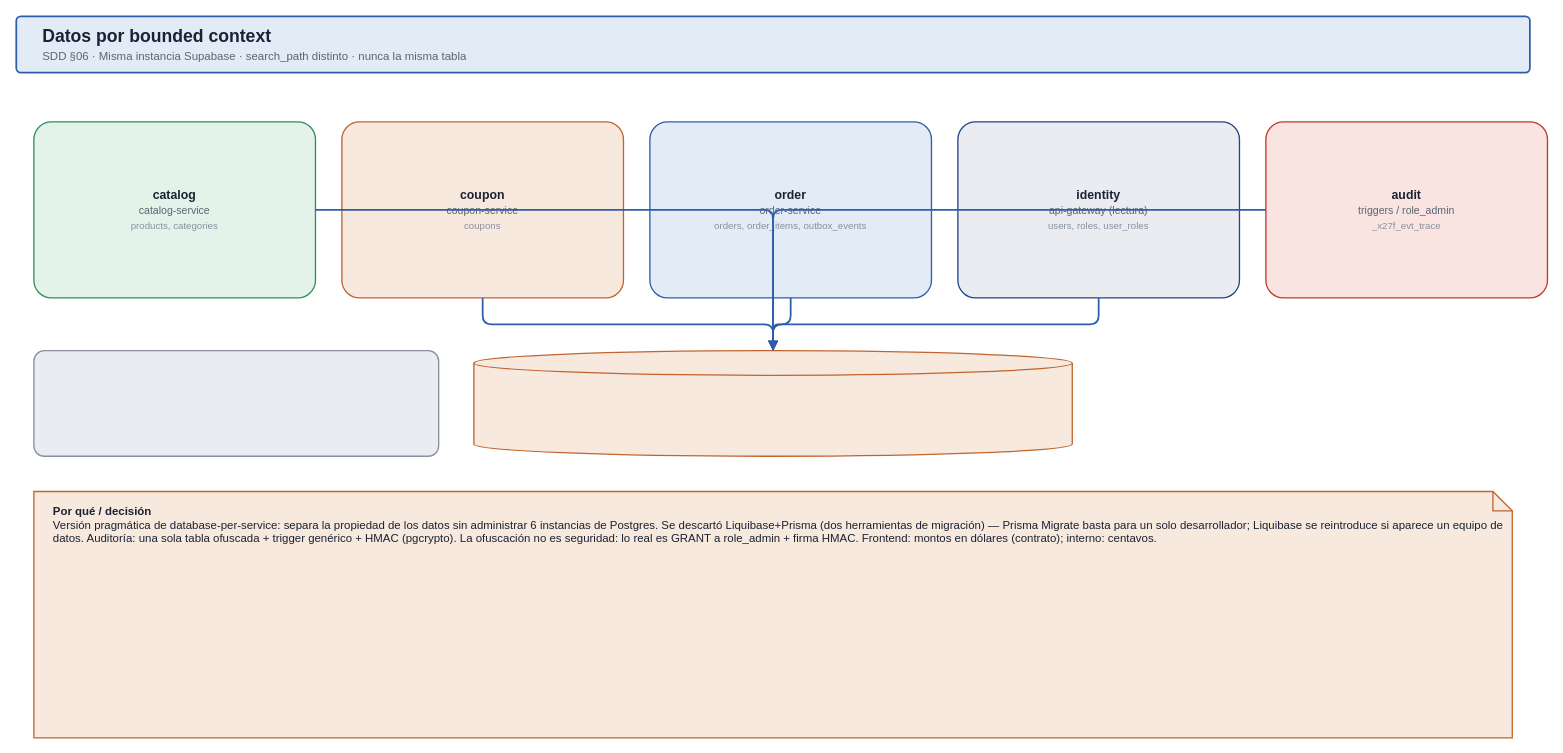
This 1563x753 diagram has some shape labels left out. The shapes that lost their labels are listed below. From the top down, each one's centre as x and y in pixels, then its label:
At point 236,403: "discount-service y notification-service: SIN schema sin estado persistente".
At point 773,403: "Una instancia PostgreSQL (Supabase) un backup · una factura".
